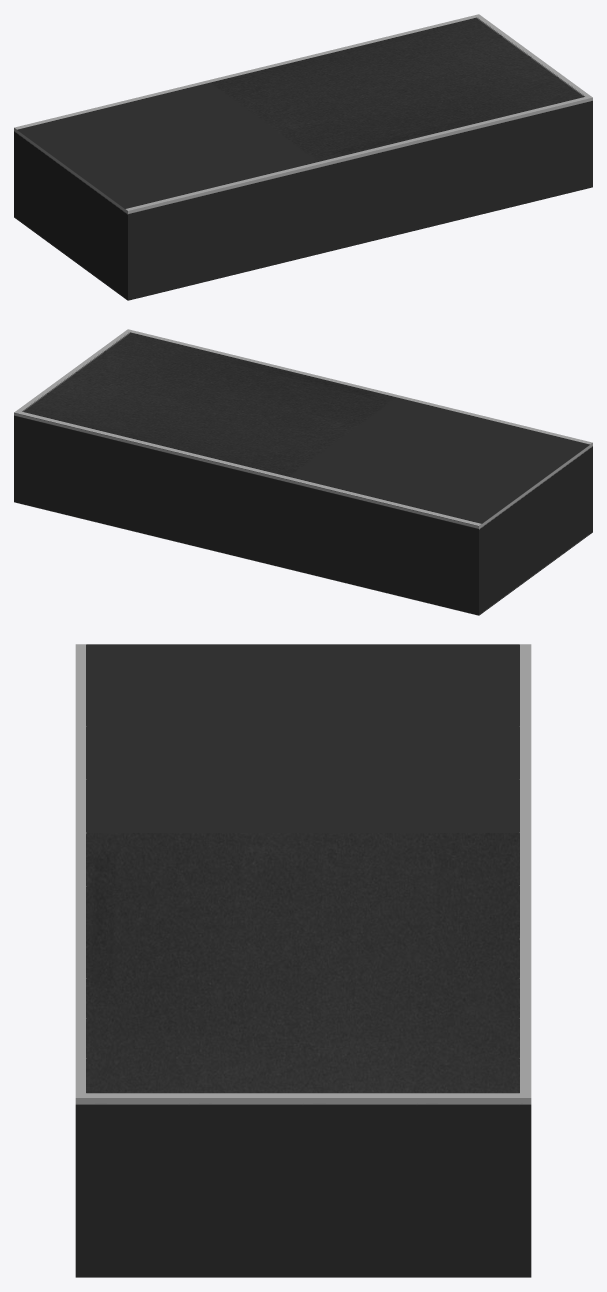
File: MS_Stage_2.fbx
3 renders of one model, top to bottom at view 1: azimuth 30°, elevation 25°; view 2: azimuth 150°, elevation 25°; view 3: azimuth 270°, elevation 25°, orthographic. The views are drawn at different scales.
Visible parts, largest first — view 1: MS_Catwalk; view 2: MS_Catwalk; view 3: MS_Catwalk.
Part boxes in pixels (x1,y1,x2,y2): MS_Catwalk: (14, 14, 592, 300); MS_Catwalk: (14, 329, 592, 615); MS_Catwalk: (75, 644, 531, 1277).
Size of the model in its own units: 809 by 149 by 343.
